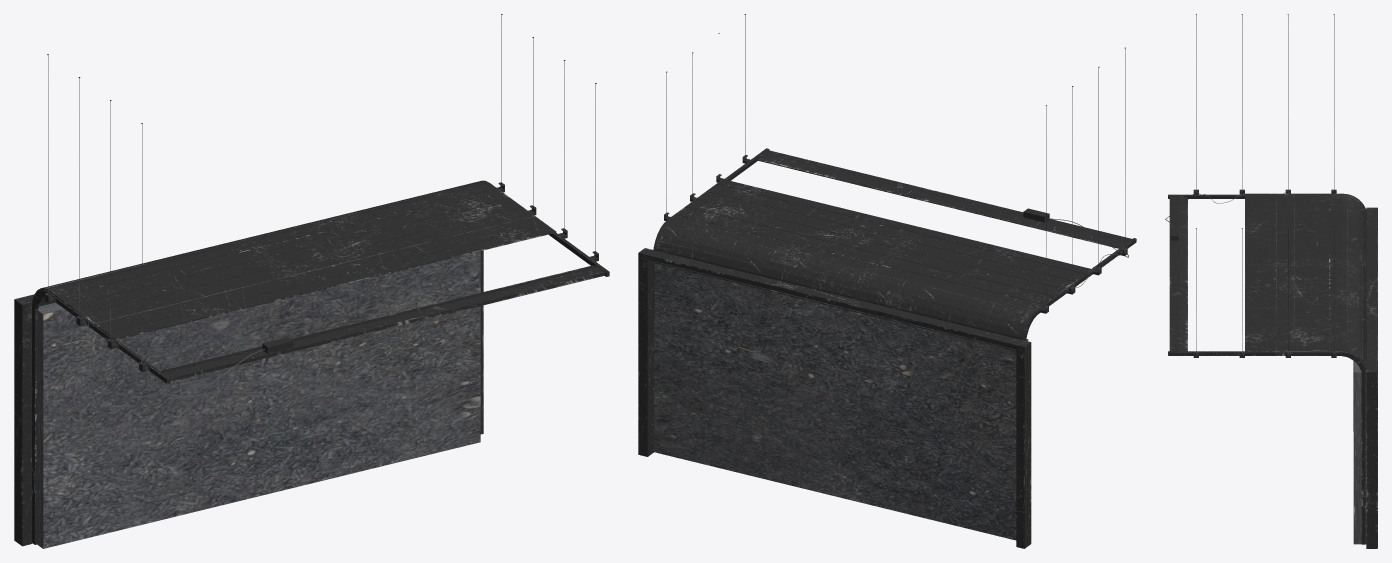
File: abu1.fbx
3 views of the same model, side by side, from view 1: azimuth 30°, elevation 25°; view 2: azimuth 150°, elevation 25°; view 3: azimuth 270°, elevation 25° (orthographic). The views are drawn at different scales.
Visible parts, largest first — view 1: MainGate.001; view 2: MainGate.001; view 3: MainGate.001.
Boxes of the visible parts, x1=… form: MainGate.001: x1=14, y1=14, x2=609, y2=548; MainGate.001: x1=638, y1=14, x2=1136, y2=548; MainGate.001: x1=1165, y1=14, x2=1377, y2=548.
Size of the model in its own units: 800 by 840 by 437.
